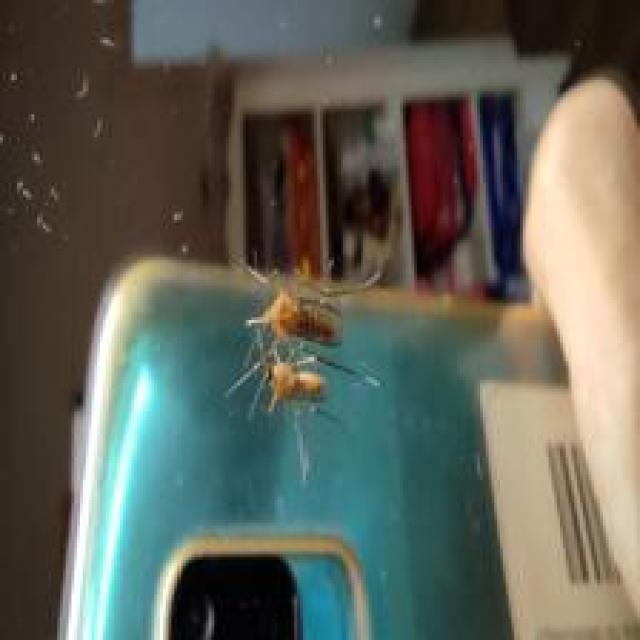Culex: (219, 247, 390, 482)
